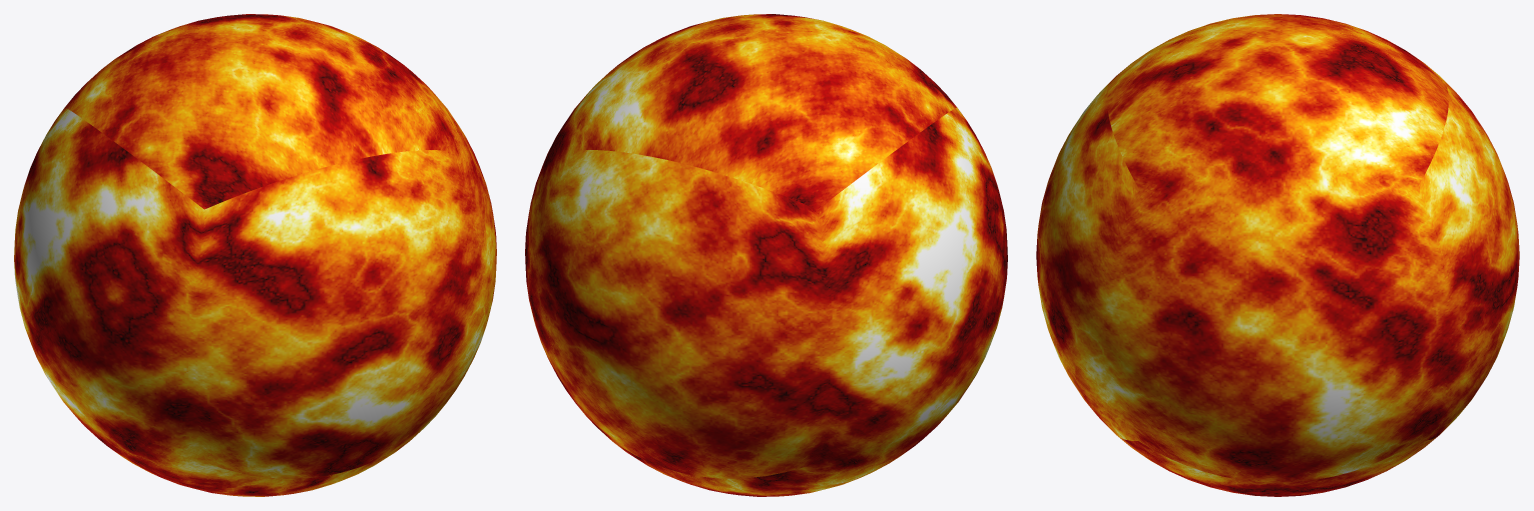
Rendered from sun.obj.
The picture shows the model from 3 angles, left to right: view 1: azimuth 30°, elevation 25°; view 2: azimuth 150°, elevation 25°; view 3: azimuth 270°, elevation 25°; orthographic projection.
Visible parts, largest first — view 1: Cube.001_Cube.002; view 2: Cube.001_Cube.002; view 3: Cube.001_Cube.002.
Part boxes in pixels (bbox=[...]): Cube.001_Cube.002: bbox=[14, 14, 496, 496]; Cube.001_Cube.002: bbox=[525, 14, 1007, 496]; Cube.001_Cube.002: bbox=[1036, 14, 1519, 496].
Bounding box in the file's own units: 10.48 × 10.48 × 10.48.
2 materials, 1 textured.
